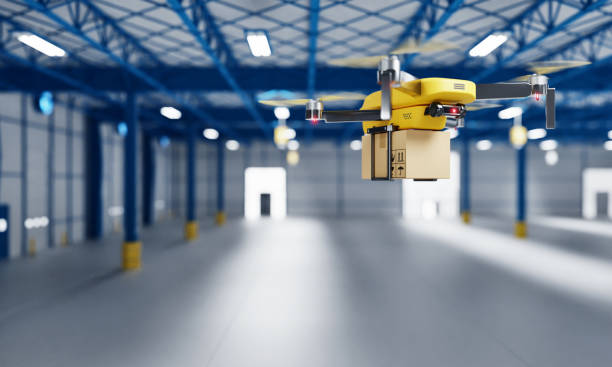Drone: (250, 39, 590, 134)
